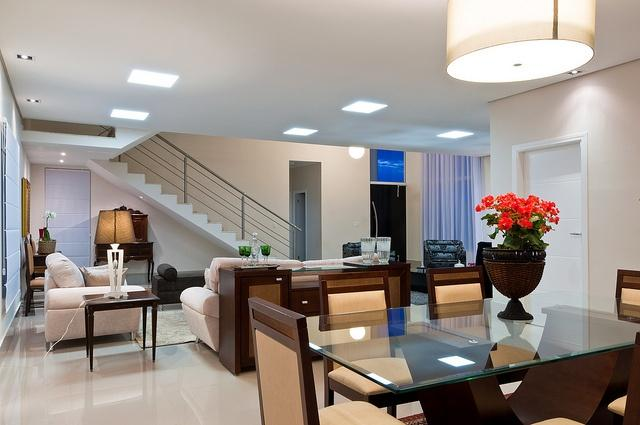Kursi: (247, 294, 409, 424), (318, 268, 419, 408)
Meja: (102, 289, 161, 384)
